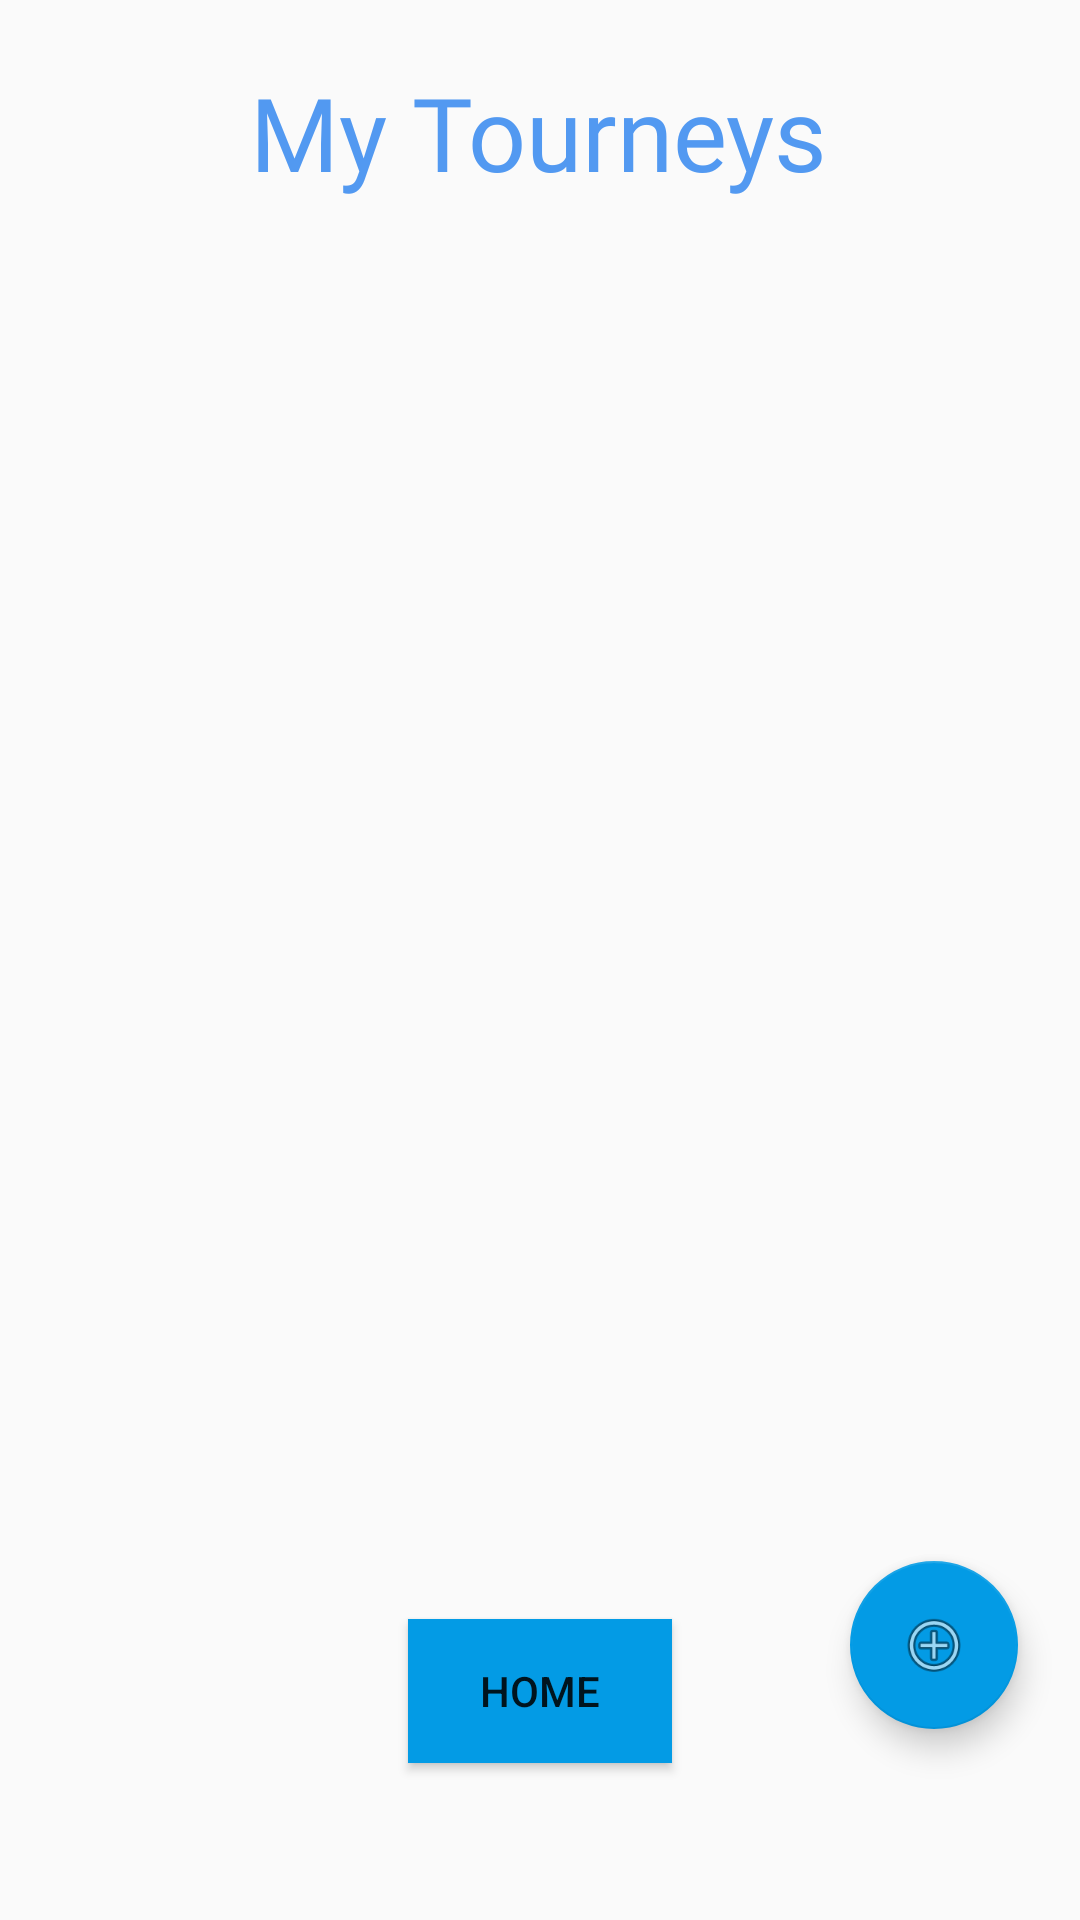

Named icons in this screenshot (1080 × 1920) and their centers, (x,y):
add: (934,1645)
